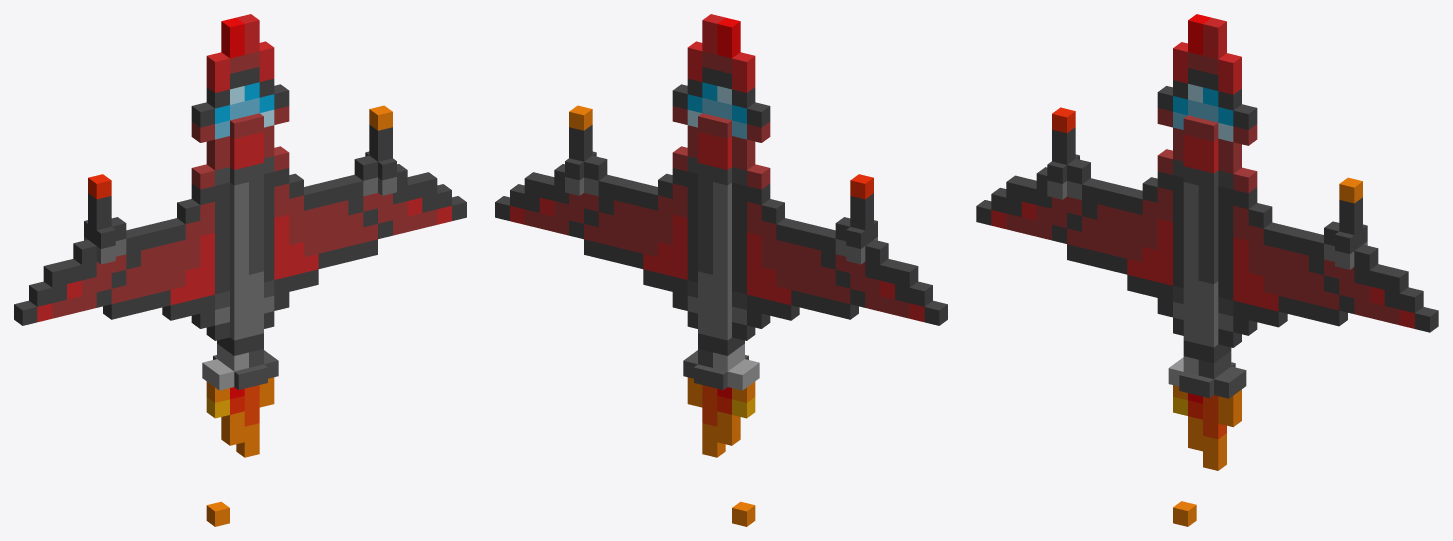
3 renders of one model, left to right at view 1: azimuth 30°, elevation 25°; view 2: azimuth 150°, elevation 25°; view 3: azimuth 330°, elevation 25°, orthographic. The views are drawn at different scales.
Parts seen in each view (by area): view 1: generated; view 2: generated; view 3: generated.
Part boxes in pixels (left/top/right/bottom): generated: left=14, top=14, right=466, bottom=526; generated: left=495, top=14, right=947, bottom=526; generated: left=976, top=14, right=1438, bottom=526.
Bounding box in the file's own units: 30 × 32 × 3.
